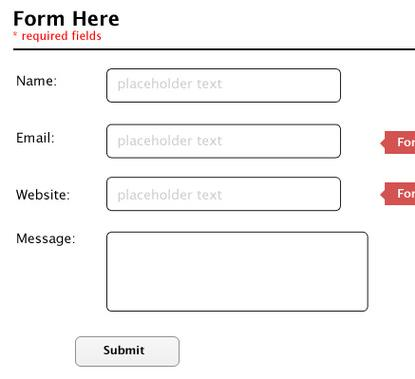button: (72, 335, 180, 367)
field: (104, 230, 370, 313), (103, 175, 341, 213), (103, 67, 341, 103), (103, 123, 341, 159)
field_with_label: (17, 228, 372, 315), (15, 173, 342, 215), (16, 65, 342, 105), (17, 122, 341, 160)
